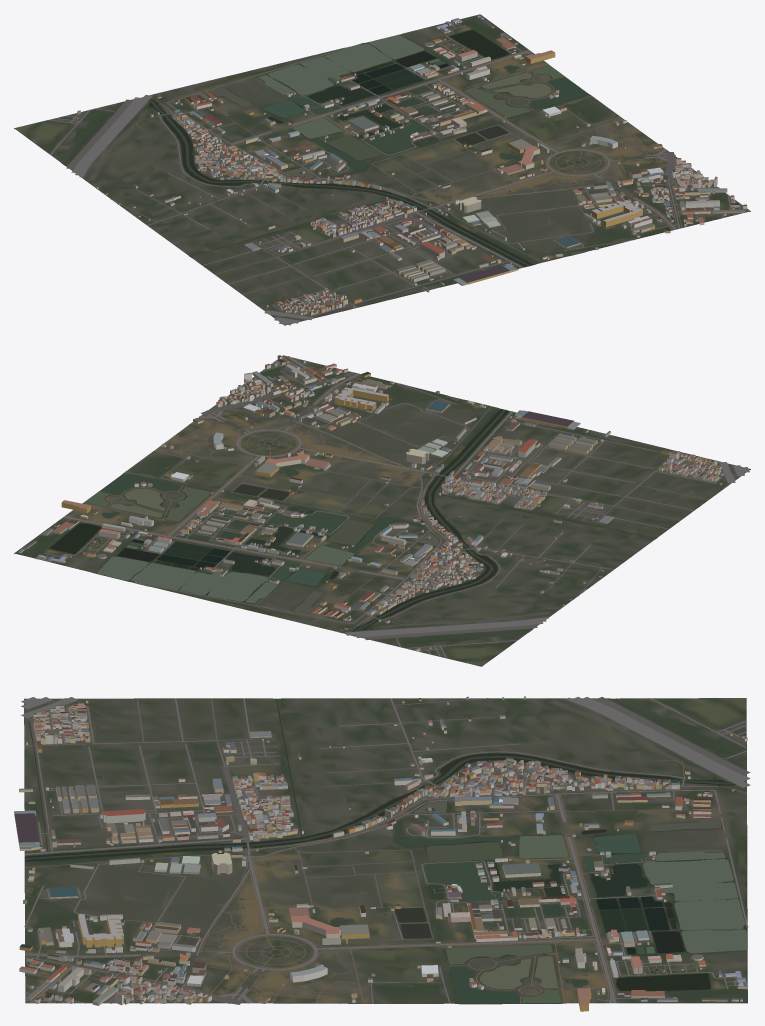
3 views of the same model, one above another, from view 1: azimuth 30°, elevation 25°; view 2: azimuth 150°, elevation 25°; view 3: azimuth 270°, elevation 25° (orthographic). The views are drawn at different scales.
Visible parts, largest first — view 1: ground, buildings, water, roads; view 2: ground, buildings, water, roads; view 3: ground, buildings, water, roads.
Boxes of the visible parts, x1,y1,x2,y2 form: ground: (14, 14, 750, 325); buildings: (75, 15, 747, 315); water: (62, 30, 587, 315); roads: (49, 22, 748, 325); ground: (14, 355, 750, 666); buildings: (18, 355, 723, 651); water: (50, 397, 712, 641); roads: (43, 356, 749, 658); ground: (24, 698, 747, 1004); buildings: (14, 696, 747, 1011); water: (24, 698, 746, 1003); roads: (21, 697, 750, 1004).
Size of the model in its own units: 1443 by 26.4 by 1430.
